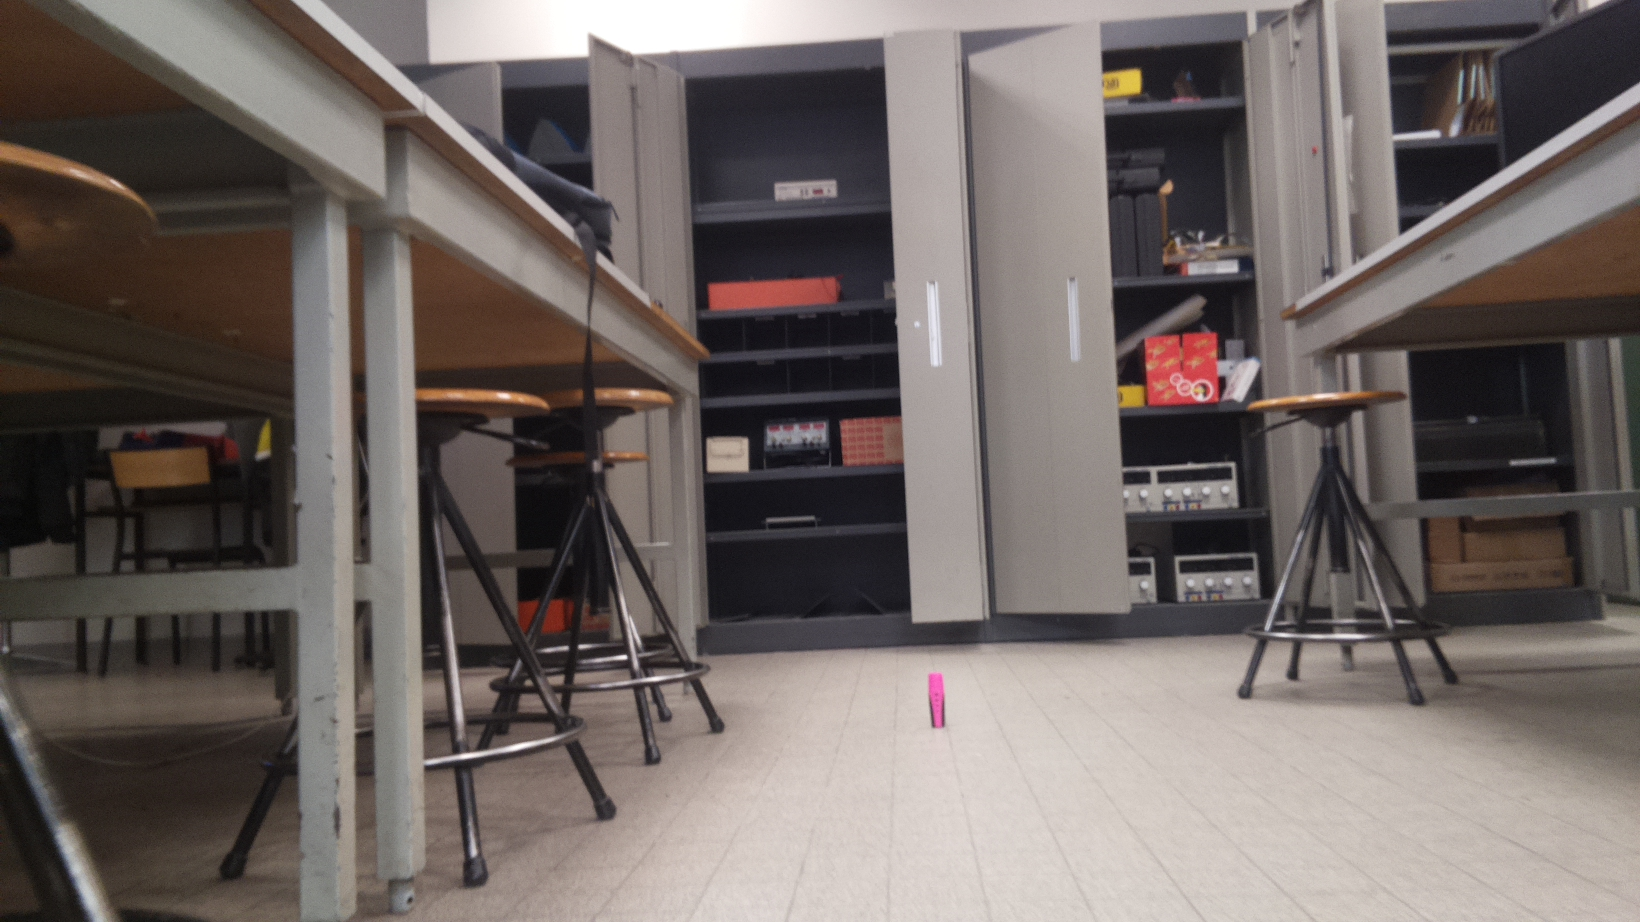small: (926, 671, 948, 729)
